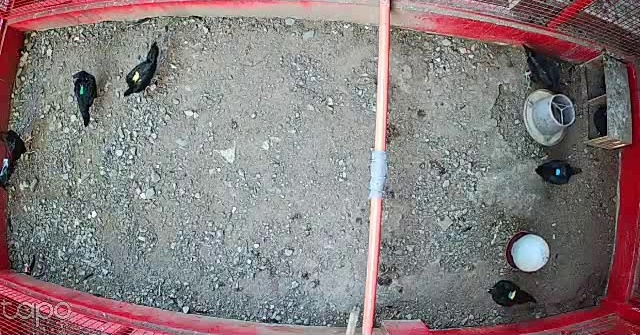Chicken: (517, 42, 566, 97), (122, 41, 162, 101), (71, 69, 101, 133), (485, 276, 540, 310), (534, 160, 586, 191)
Rooster: (0, 119, 39, 196)
Saddle_Color_Blue: (556, 169, 561, 176)
Saddle_Color_Yellow: (132, 70, 145, 85)
Saddle_Color_YellowGreen: (509, 289, 516, 300)
